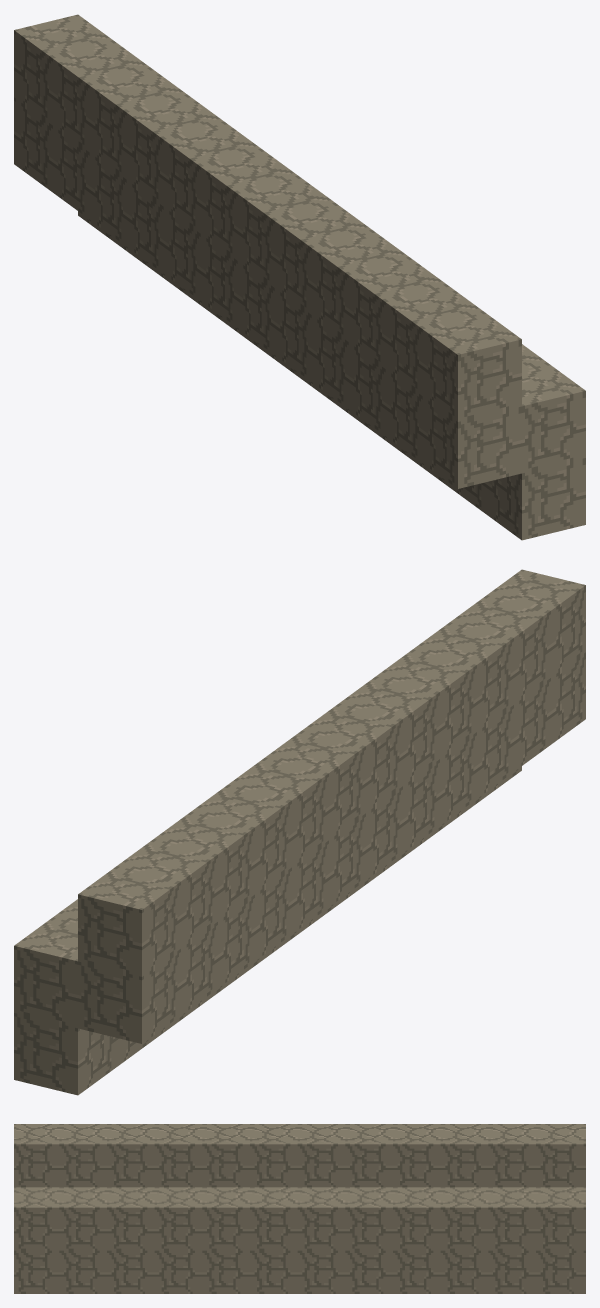
The model's file is map1.61.vox.obj.
3 views of the same model, one above another, from view 1: azimuth 30°, elevation 25°; view 2: azimuth 150°, elevation 25°; view 3: azimuth 270°, elevation 25° (orthographic). The views are drawn at different scales.
Bounding box in the file's own units: 4 × 6 × 24.
Materials: 1 (1 with a texture image).
